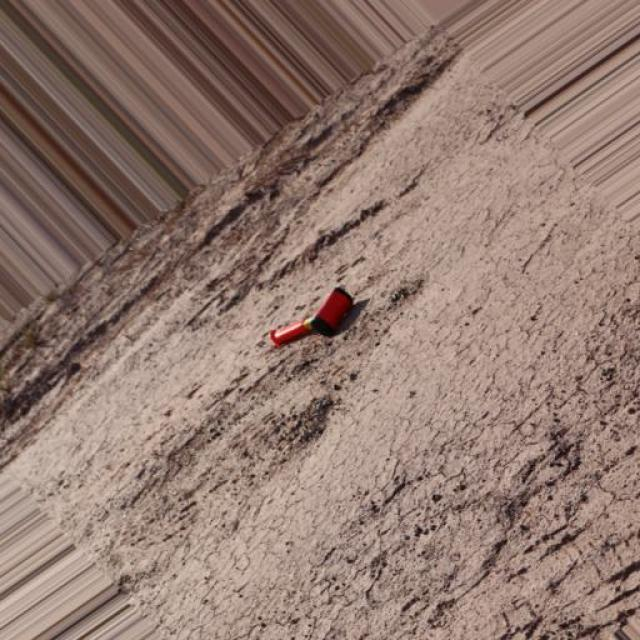mallet: (268, 284, 354, 348)
